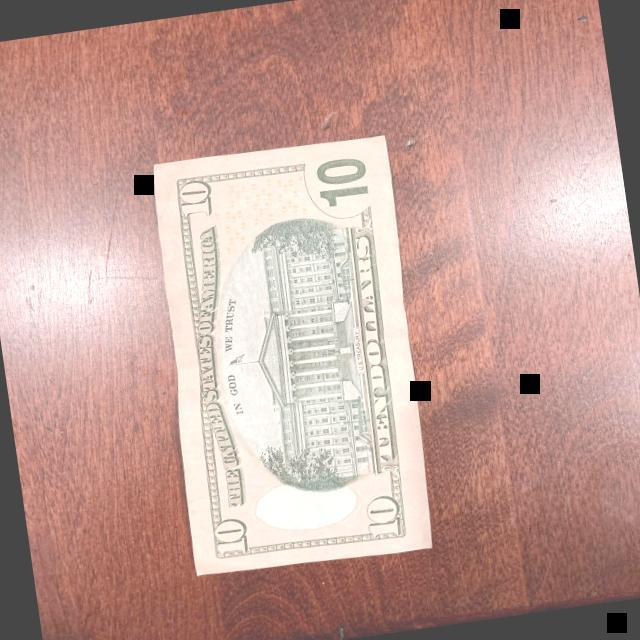ten: (136, 132, 444, 582)
